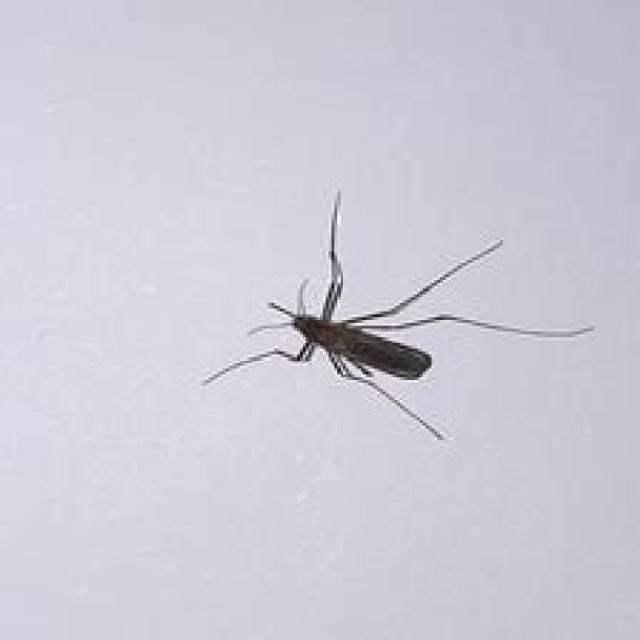Culex: (200, 188, 594, 443)
